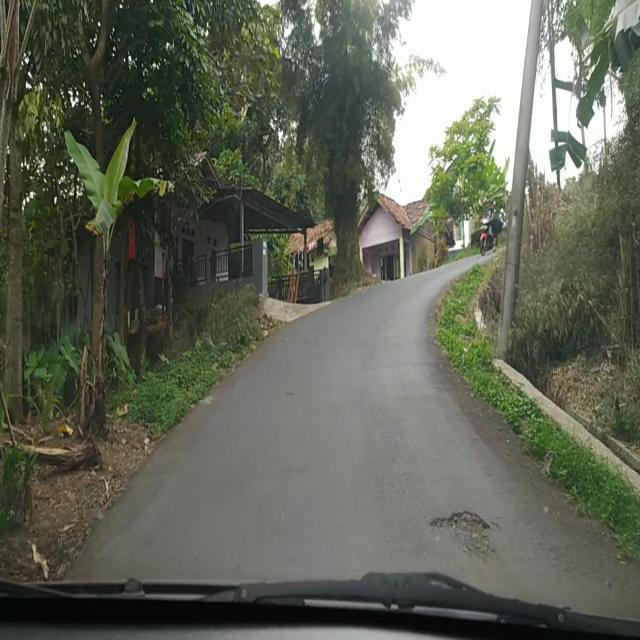Drain Hole: (432, 508, 497, 558)
